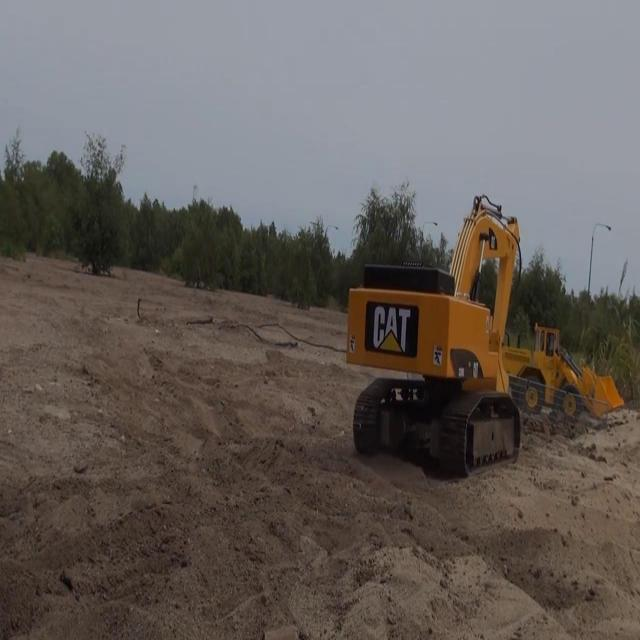Excavator: (339, 182, 519, 468)
Loader: (522, 318, 628, 419)
